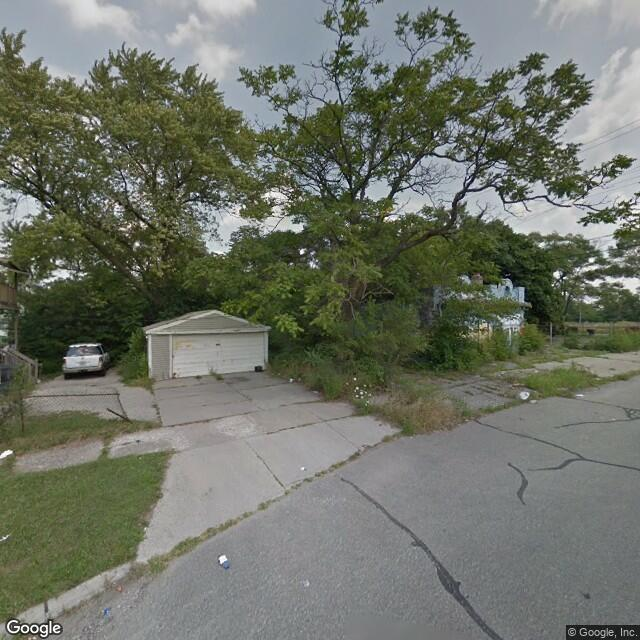litter: (215, 550, 232, 569), (1, 444, 13, 462), (518, 390, 530, 400), (574, 392, 585, 398), (300, 463, 305, 470), (533, 367, 538, 372), (287, 377, 293, 381)
